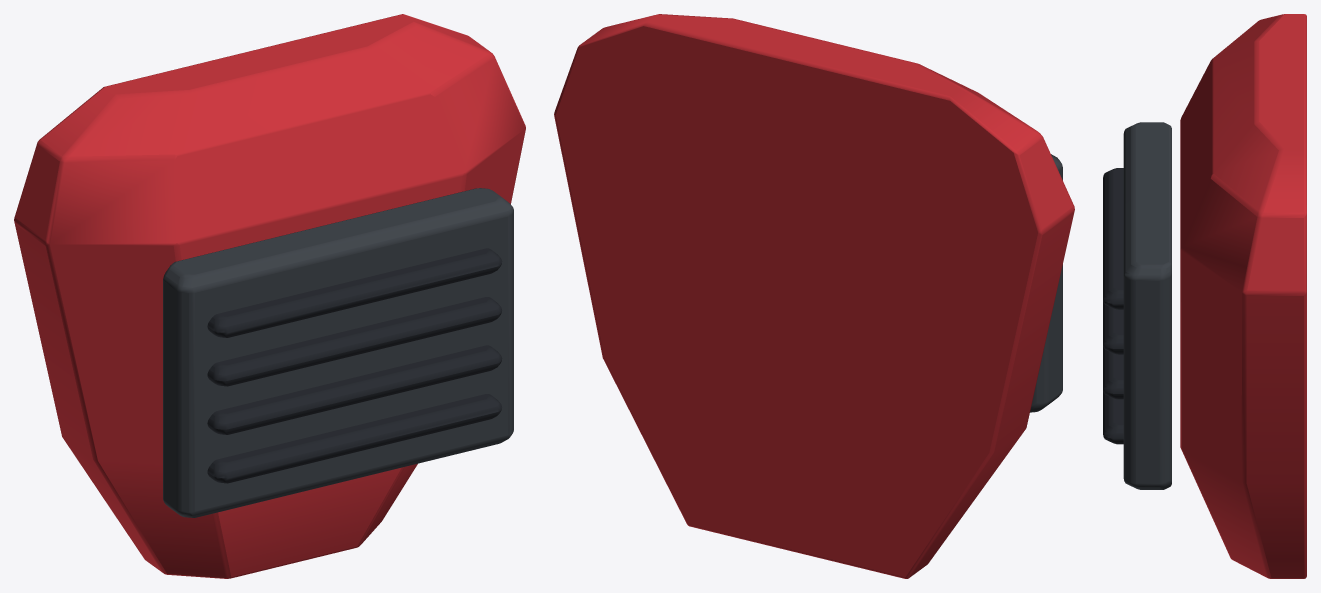
Rendered from HeadBack_Set02_Bastion.fbx.
3 views of the same model, side by side, from view 1: azimuth 30°, elevation 25°; view 2: azimuth 150°, elevation 25°; view 3: azimuth 270°, elevation 25° (orthographic). The views are drawn at different scales.
Visible parts, largest first — view 1: HeadBack_Set02_Bastion; view 2: HeadBack_Set02_Bastion; view 3: HeadBack_Set02_Bastion.
Boxes of the visible parts, x1,y1,x2,y2 form: HeadBack_Set02_Bastion: [14, 14, 525, 578]; HeadBack_Set02_Bastion: [554, 14, 1074, 578]; HeadBack_Set02_Bastion: [1103, 14, 1306, 578].
Size of the model in its own units: 0.559 by 0.54 by 0.222.
